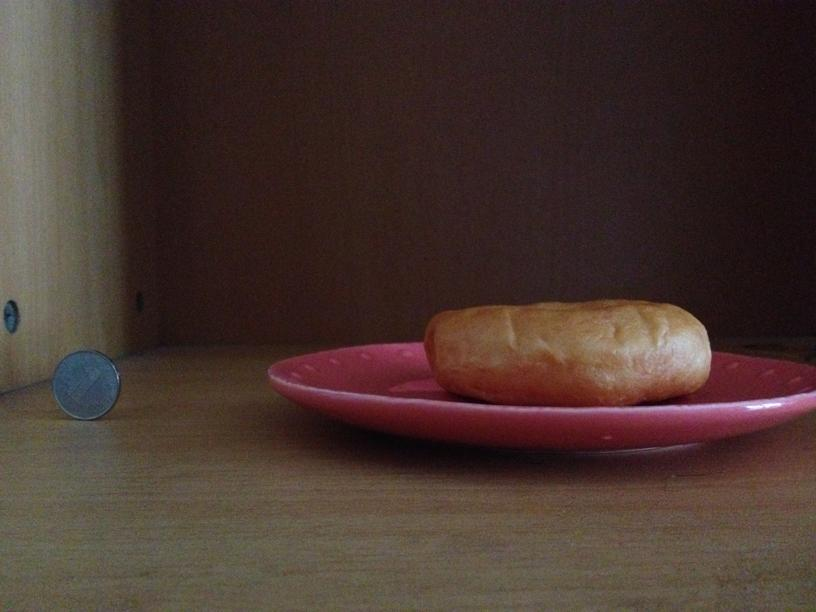coin: (49, 350, 119, 420)
doughnut: (424, 297, 709, 403)
